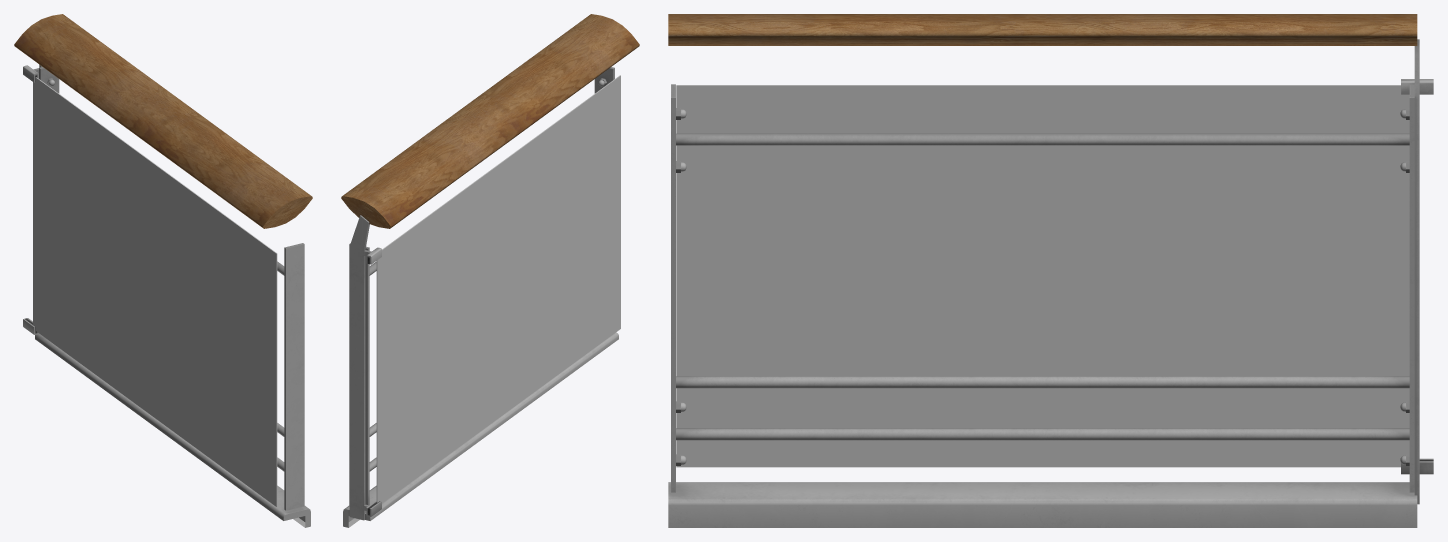
The model's file is SM_Railing_01_150.fbx.
3 views of the same model, side by side, from view 1: azimuth 30°, elevation 25°; view 2: azimuth 150°, elevation 25°; view 3: azimuth 270°, elevation 25° (orthographic). The views are drawn at different scales.
Visible parts, largest first — view 1: SM_Railing_01_150_LOD0; view 2: SM_Railing_01_150_LOD0; view 3: SM_Railing_01_150_LOD0.
Boxes of the visible parts, x1,y1,x2,y2 form: SM_Railing_01_150_LOD0: (14, 14, 312, 527); SM_Railing_01_150_LOD0: (341, 14, 639, 527); SM_Railing_01_150_LOD0: (668, 14, 1433, 527).
Bounding box in the file's own units: 17.31 × 153 × 110.
